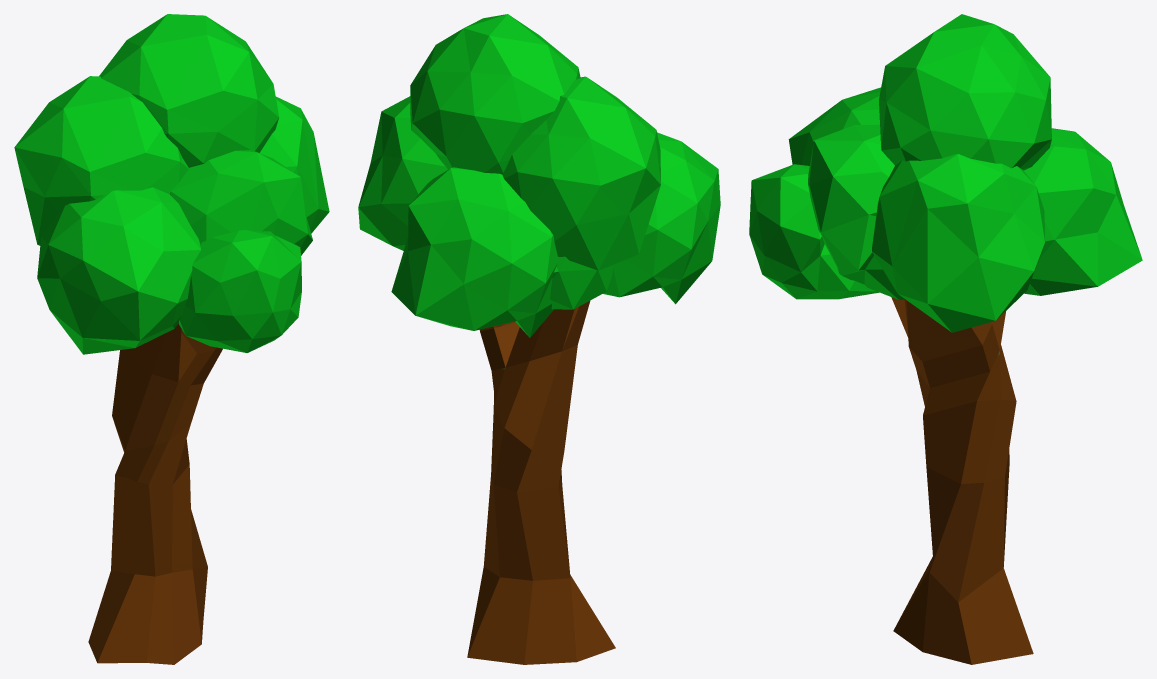
The model's file is arvore.fbx.
3 views of the same model, side by side, from view 1: azimuth 30°, elevation 25°; view 2: azimuth 150°, elevation 25°; view 3: azimuth 270°, elevation 25° (orthographic). The views are drawn at different scales.
Parts seen in each view (by area): view 1: Icosphere.007; view 2: Icosphere.007; view 3: Icosphere.007.
Part boxes in pixels (x1,y1,x2,y2): Icosphere.007: (14, 14, 329, 664); Icosphere.007: (358, 14, 720, 664); Icosphere.007: (749, 14, 1142, 664).
Bounding box in the file's own units: 1123 × 2197 × 1247.
Materials: 1 (1 with a texture image).
